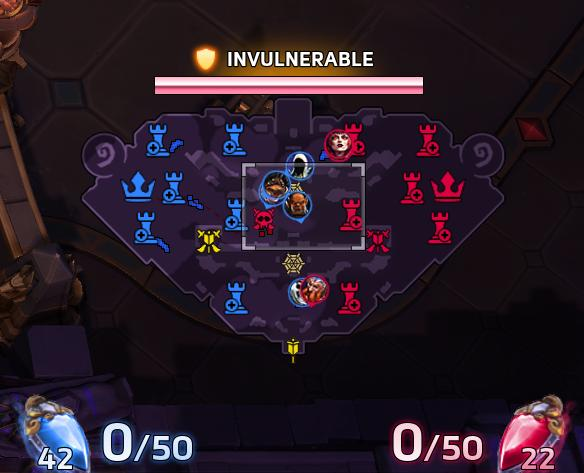blue nexus: (119, 170, 157, 202)
blue player: (259, 170, 291, 206), (282, 190, 312, 221), (285, 151, 314, 181)
blue tower: (133, 209, 170, 253), (144, 122, 171, 157), (161, 170, 187, 205), (223, 280, 249, 314), (221, 121, 246, 156), (223, 196, 246, 231)
red nexus: (429, 170, 466, 202)
red player: (299, 274, 329, 304), (324, 129, 352, 160)
red tower: (336, 280, 362, 314), (415, 122, 440, 157), (427, 210, 452, 244), (399, 171, 424, 204), (338, 197, 362, 231)
